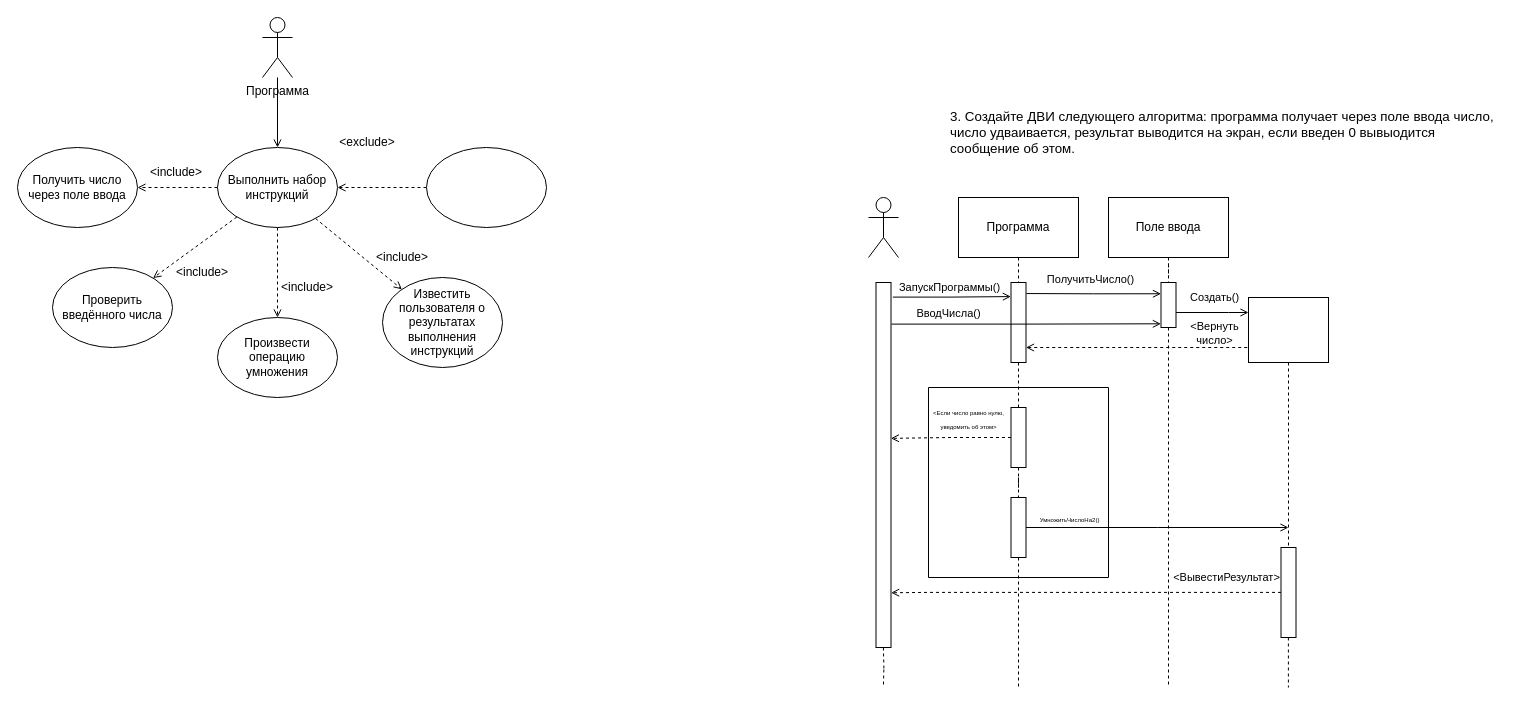
This 1526x706 diagram has some shape labels left out. Here are the shapes that lost their labels. From the top down, the box of each, then its label:
(426, 146, 546, 228): Вывести сообщение об ошибке
(868, 196, 898, 258): Пользователь
(1248, 296, 1328, 362): Число
